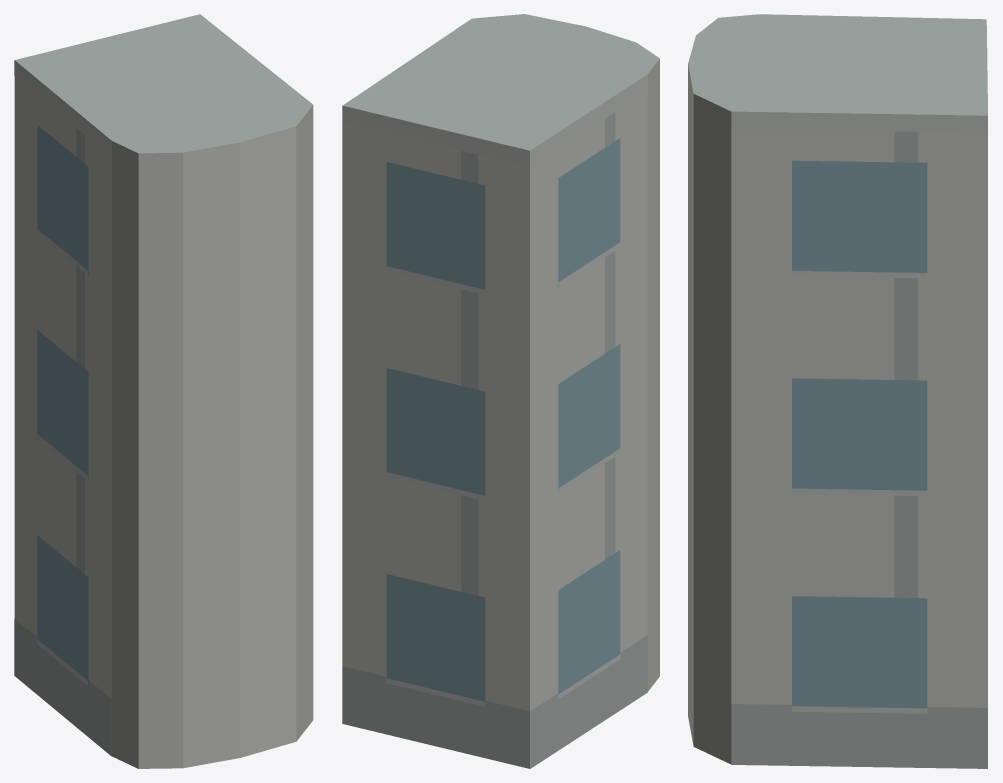
File: survey-upis-32647947.glb
The picture shows the model from 3 angles, left to right: view 1: azimuth 30°, elevation 25°; view 2: azimuth 150°, elevation 25°; view 3: azimuth 270°, elevation 25°; orthographic projection. The views are drawn at different scales.
Visible parts, largest first — view 1: survey-upis-32647947.tmp; view 2: survey-upis-32647947.tmp; view 3: survey-upis-32647947.tmp.
Boxes of the visible parts, x1,y1,x2,y2 form: survey-upis-32647947.tmp: (14,14,313,768); survey-upis-32647947.tmp: (342,14,659,768); survey-upis-32647947.tmp: (688,14,987,768).
Bounding box in the file's own units: 3.06 × 9.15 × 3.82.
